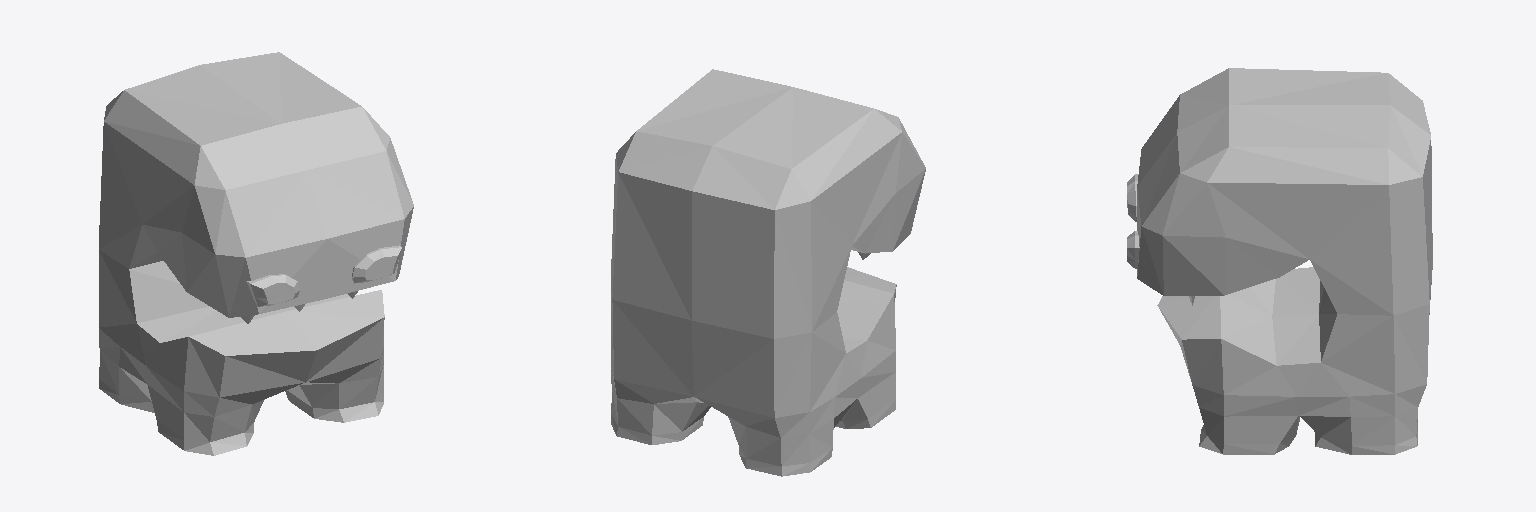
Rendered from mob1.obj.
3 views of the same model, side by side, from view 1: azimuth 30°, elevation 25°; view 2: azimuth 150°, elevation 25°; view 3: azimuth 270°, elevation 25° (orthographic).
Visible parts, largest first — view 1: Mesh.003_body:polySurface8; view 2: Mesh.003_body:polySurface8; view 3: Mesh.003_body:polySurface8.
Part boxes in pixels (left/top/right/bottom): Mesh.003_body:polySurface8: left=99, top=52, right=413, bottom=455; Mesh.003_body:polySurface8: left=611, top=69, right=925, bottom=476; Mesh.003_body:polySurface8: left=1127, top=68, right=1432, bottom=454.
Bounding box in the file's own units: 1.45 × 2.06 × 1.9.